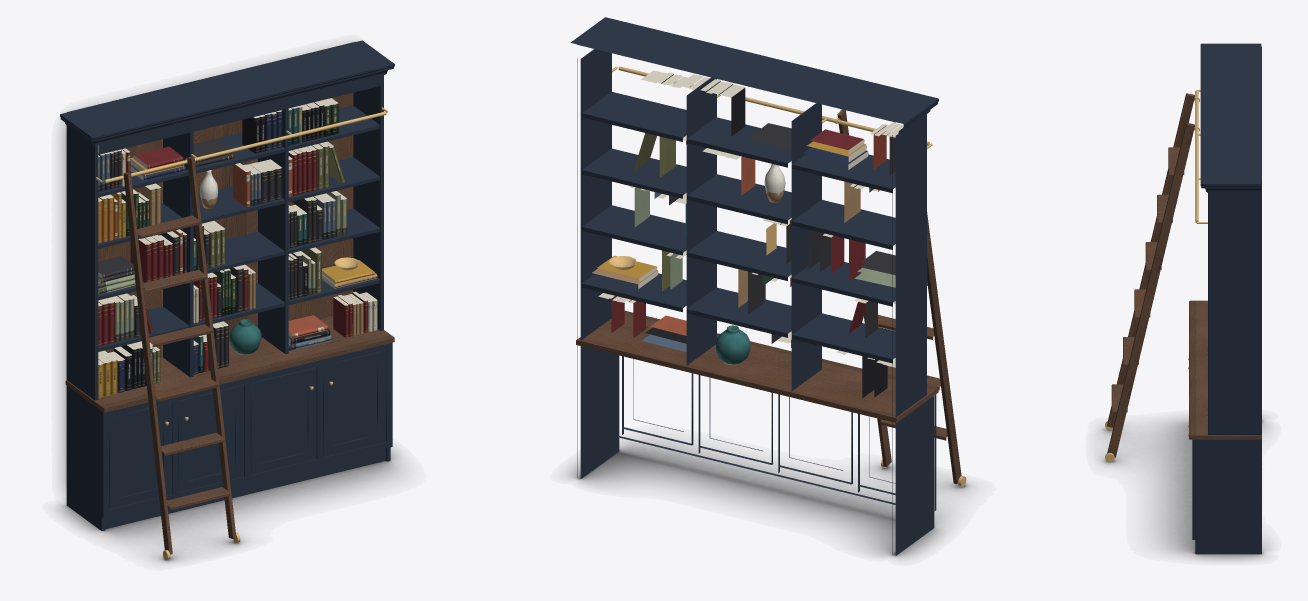
The model's file is library_wall.glb.
3 views of the same model, side by side, from view 1: azimuth 30°, elevation 25°; view 2: azimuth 150°, elevation 25°; view 3: azimuth 270°, elevation 25° (orthographic). The views are drawn at different scales.
Parts seen in each view (by area): view 1: library_wall_LOD0, library_wall_Shadow; view 2: library_wall_LOD0, library_wall_Shadow; view 3: library_wall_LOD0, library_wall_Shadow.
Boxes of the visible parts, bbox=[...] form: library_wall_LOD0: bbox=[60, 40, 394, 559]; library_wall_Shadow: bbox=[58, 122, 401, 562]; library_wall_LOD0: bbox=[570, 17, 966, 555]; library_wall_Shadow: bbox=[568, 439, 971, 558]; library_wall_LOD0: bbox=[1105, 43, 1261, 554]; library_wall_Shadow: bbox=[1100, 417, 1267, 560].
Size of what is drawn, in the model's own units: 2.49 by 2.88 by 1.39.
7 materials, 5 textured.
